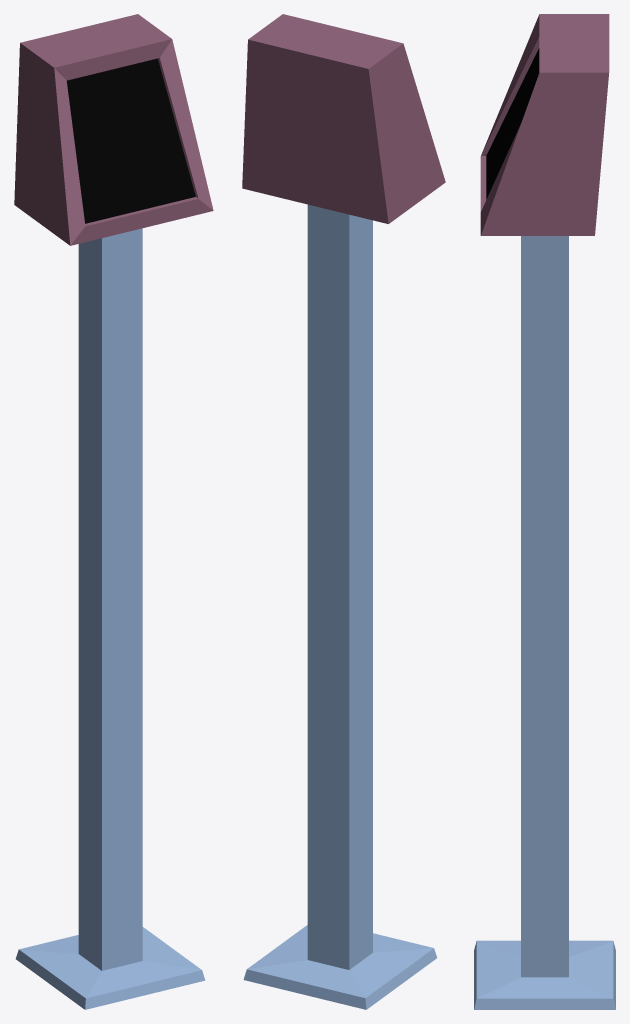
File: door-pole-card-reader.fbx
3 views of the same model, side by side, from view 1: azimuth 30°, elevation 25°; view 2: azimuth 150°, elevation 25°; view 3: azimuth 270°, elevation 25° (orthographic). The views are drawn at different scales.
Visible parts, largest first — view 1: DoorReader; view 2: DoorReader; view 3: DoorReader.
Boxes of the visible parts, left/top/right/bottom form: DoorReader: left=14, top=14, right=213, bottom=1009; DoorReader: left=242, top=14, right=445, bottom=1009; DoorReader: left=474, top=14, right=615, bottom=1009.
Size of the model in its own units: 17.66 by 108 by 14.83.
